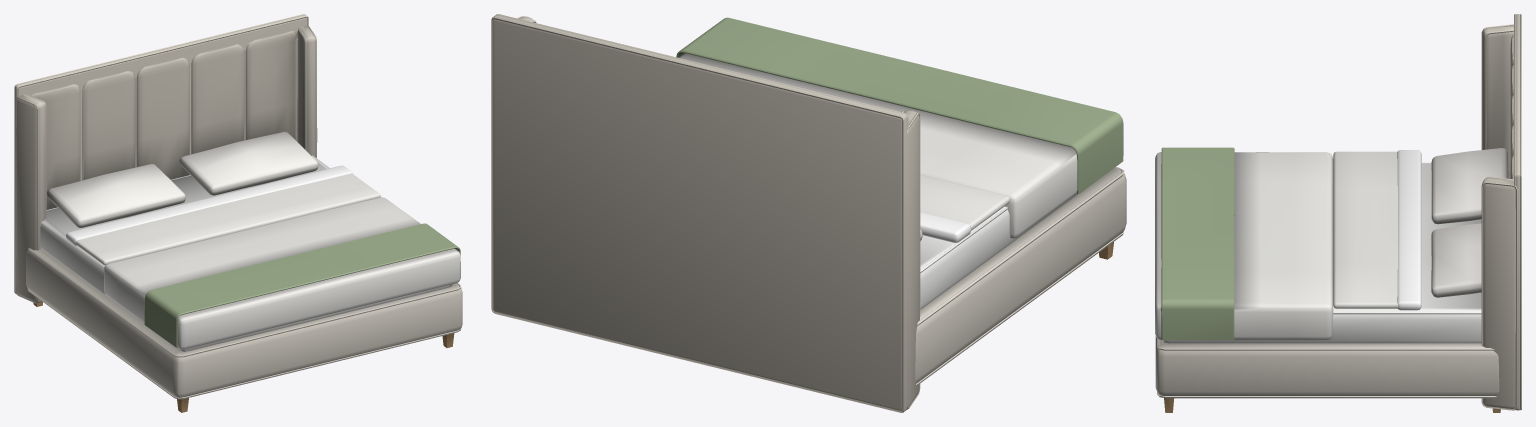
Rendered from bedKing.glb.
The picture shows the model from 3 angles, left to right: view 1: azimuth 30°, elevation 25°; view 2: azimuth 150°, elevation 25°; view 3: azimuth 270°, elevation 25°; orthographic projection. The views are drawn at different scales.
Parts seen in each view (by area): view 1: bedKing, duvet_flap; view 2: bedKing, duvet_flap; view 3: bedKing, duvet_flap.
Part boxes in pixels (box(x1,y1,x2,y2)): bedKing: box(14, 14, 462, 412); duvet_flap: box(66, 165, 380, 265); bedKing: box(491, 14, 1126, 412); duvet_flap: box(920, 174, 1010, 242); bedKing: box(1155, 14, 1521, 412); duvet_flap: box(1333, 150, 1421, 310).
Bounding box in the file's own units: 1.99 × 1.4 × 1.9.
